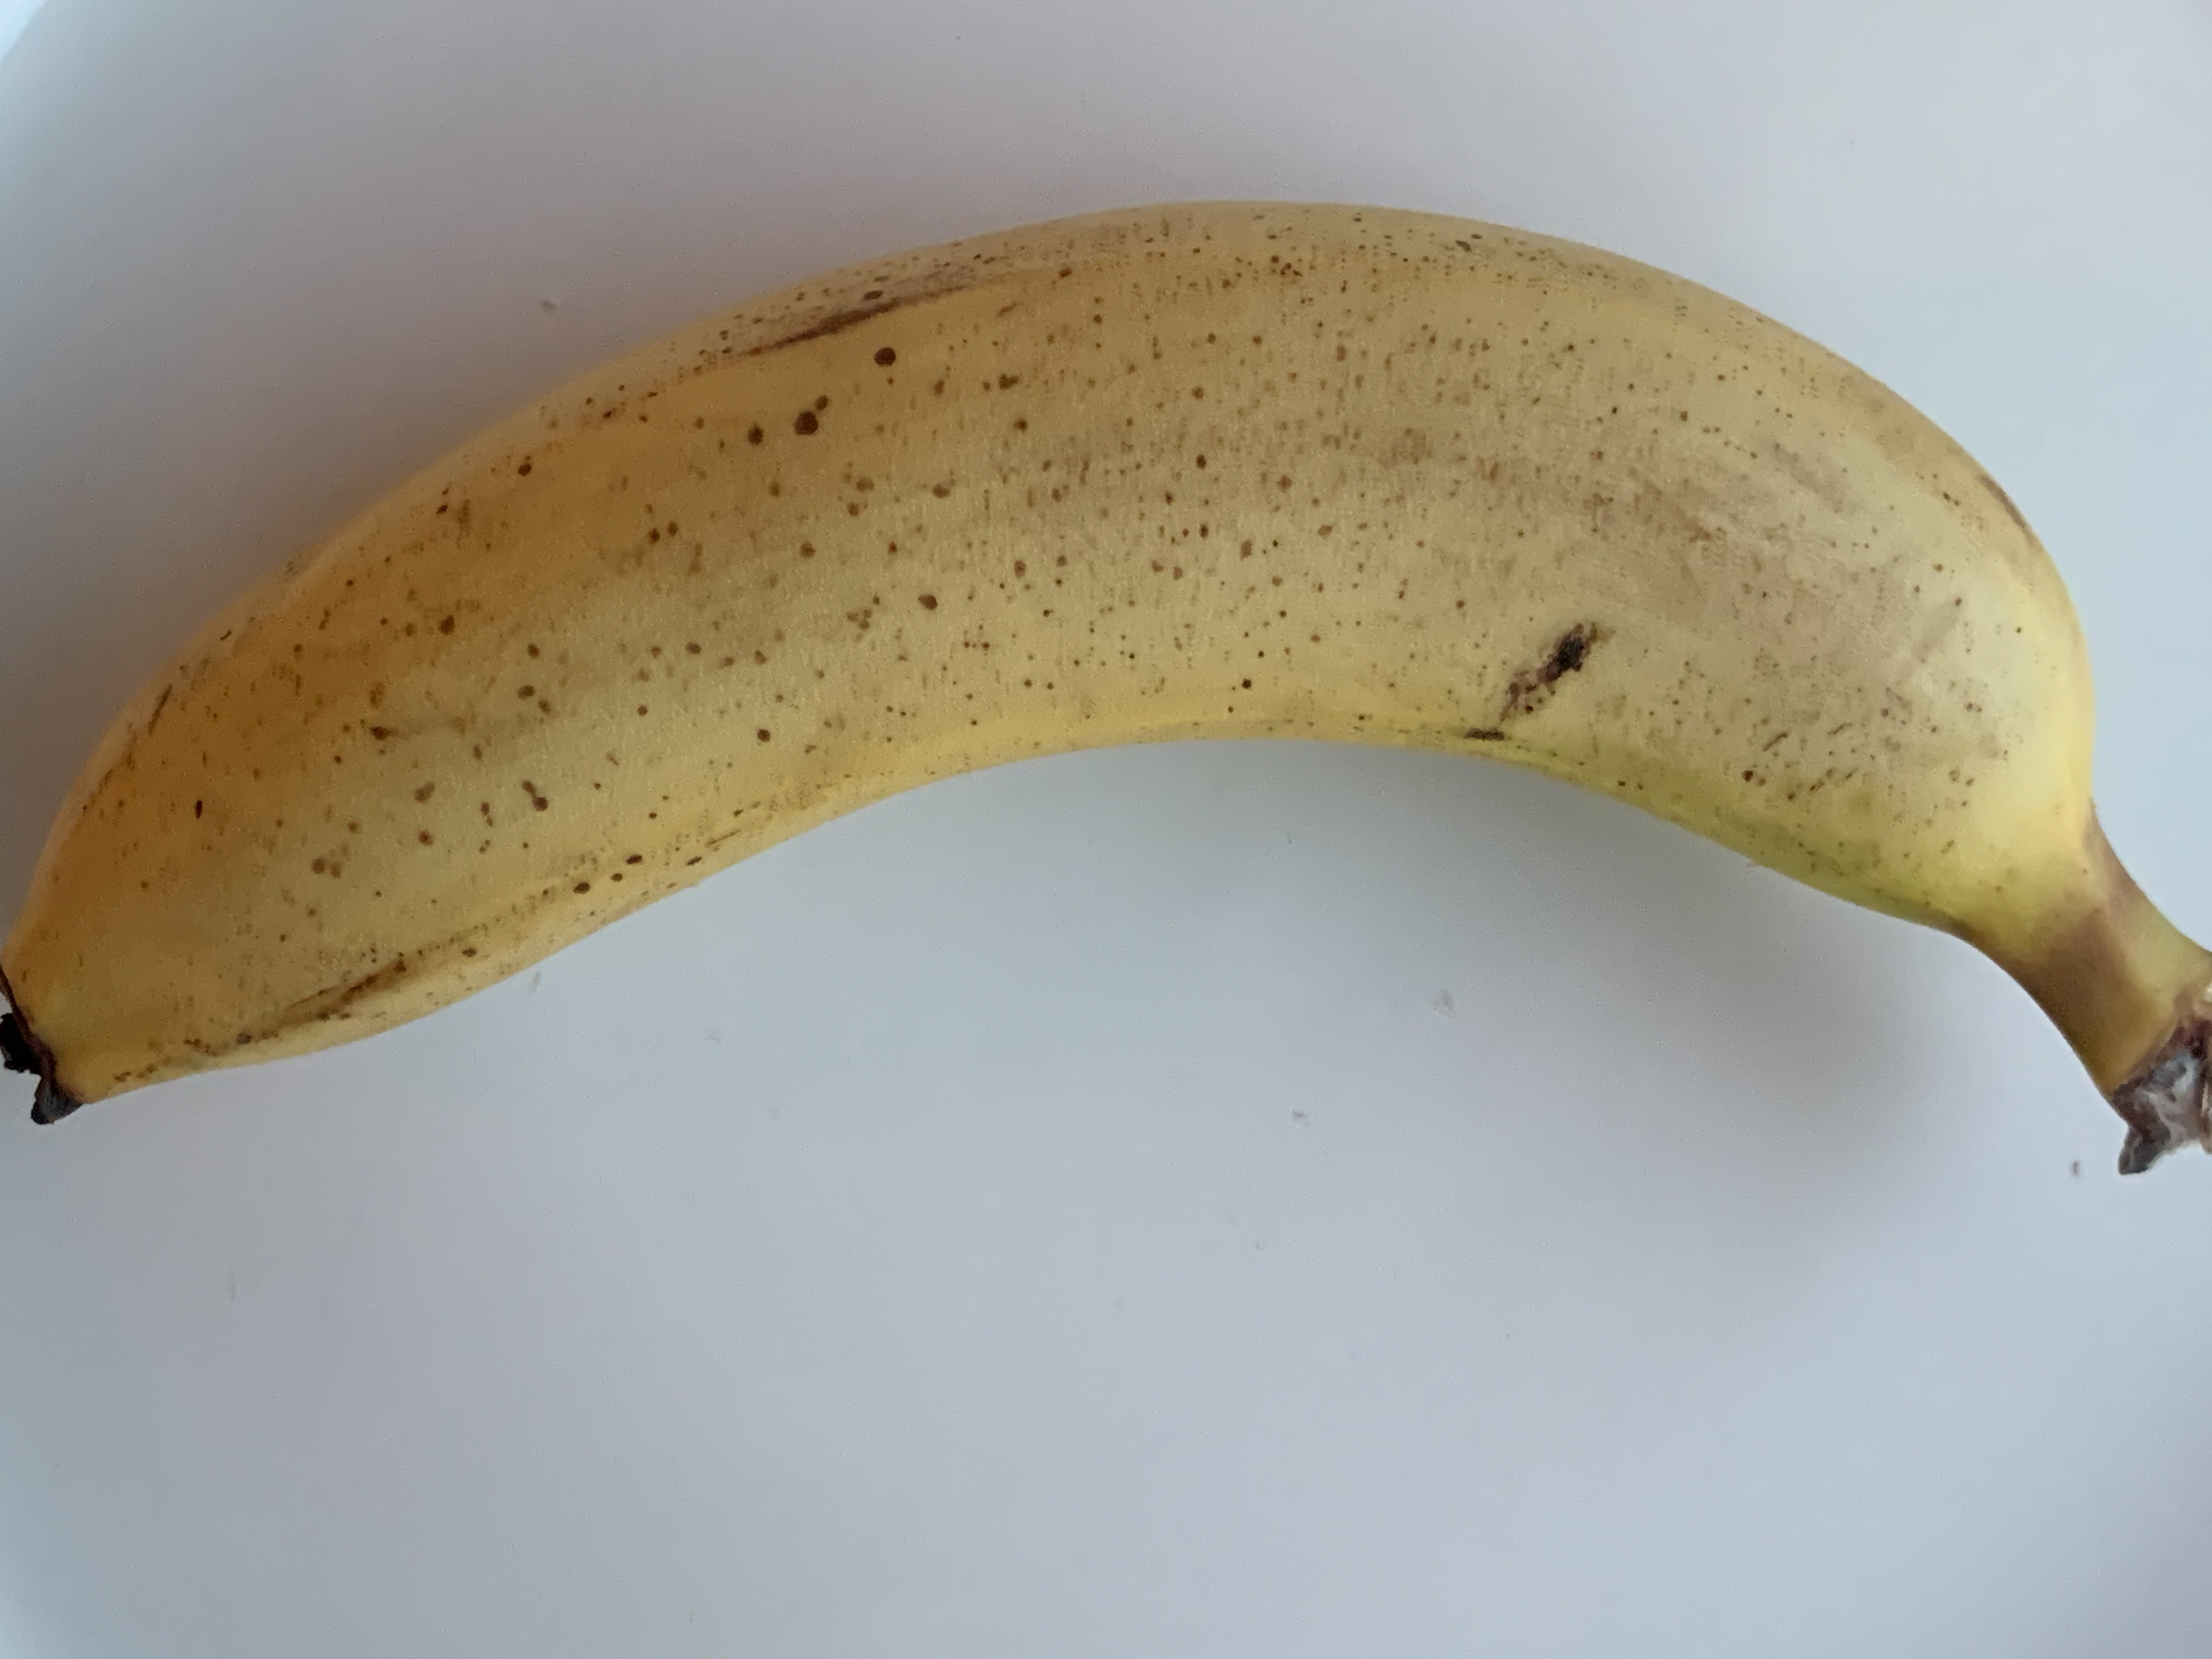banana: (2, 193, 2212, 1159)
